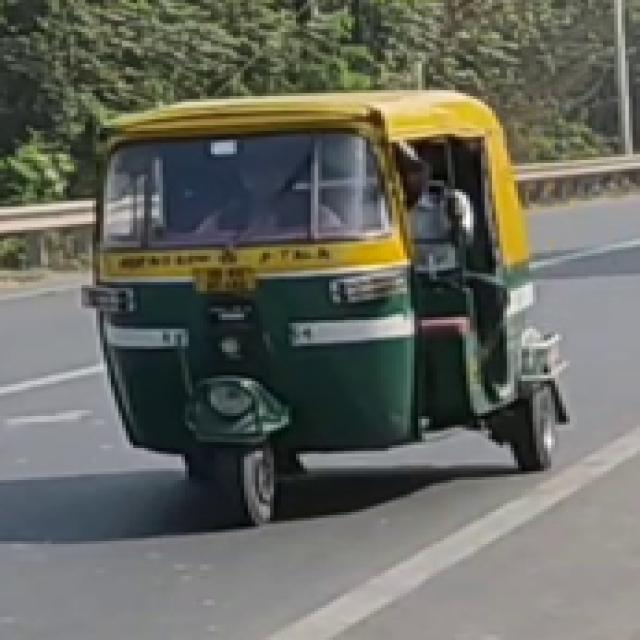autorickshaw: (90, 86, 572, 535)
